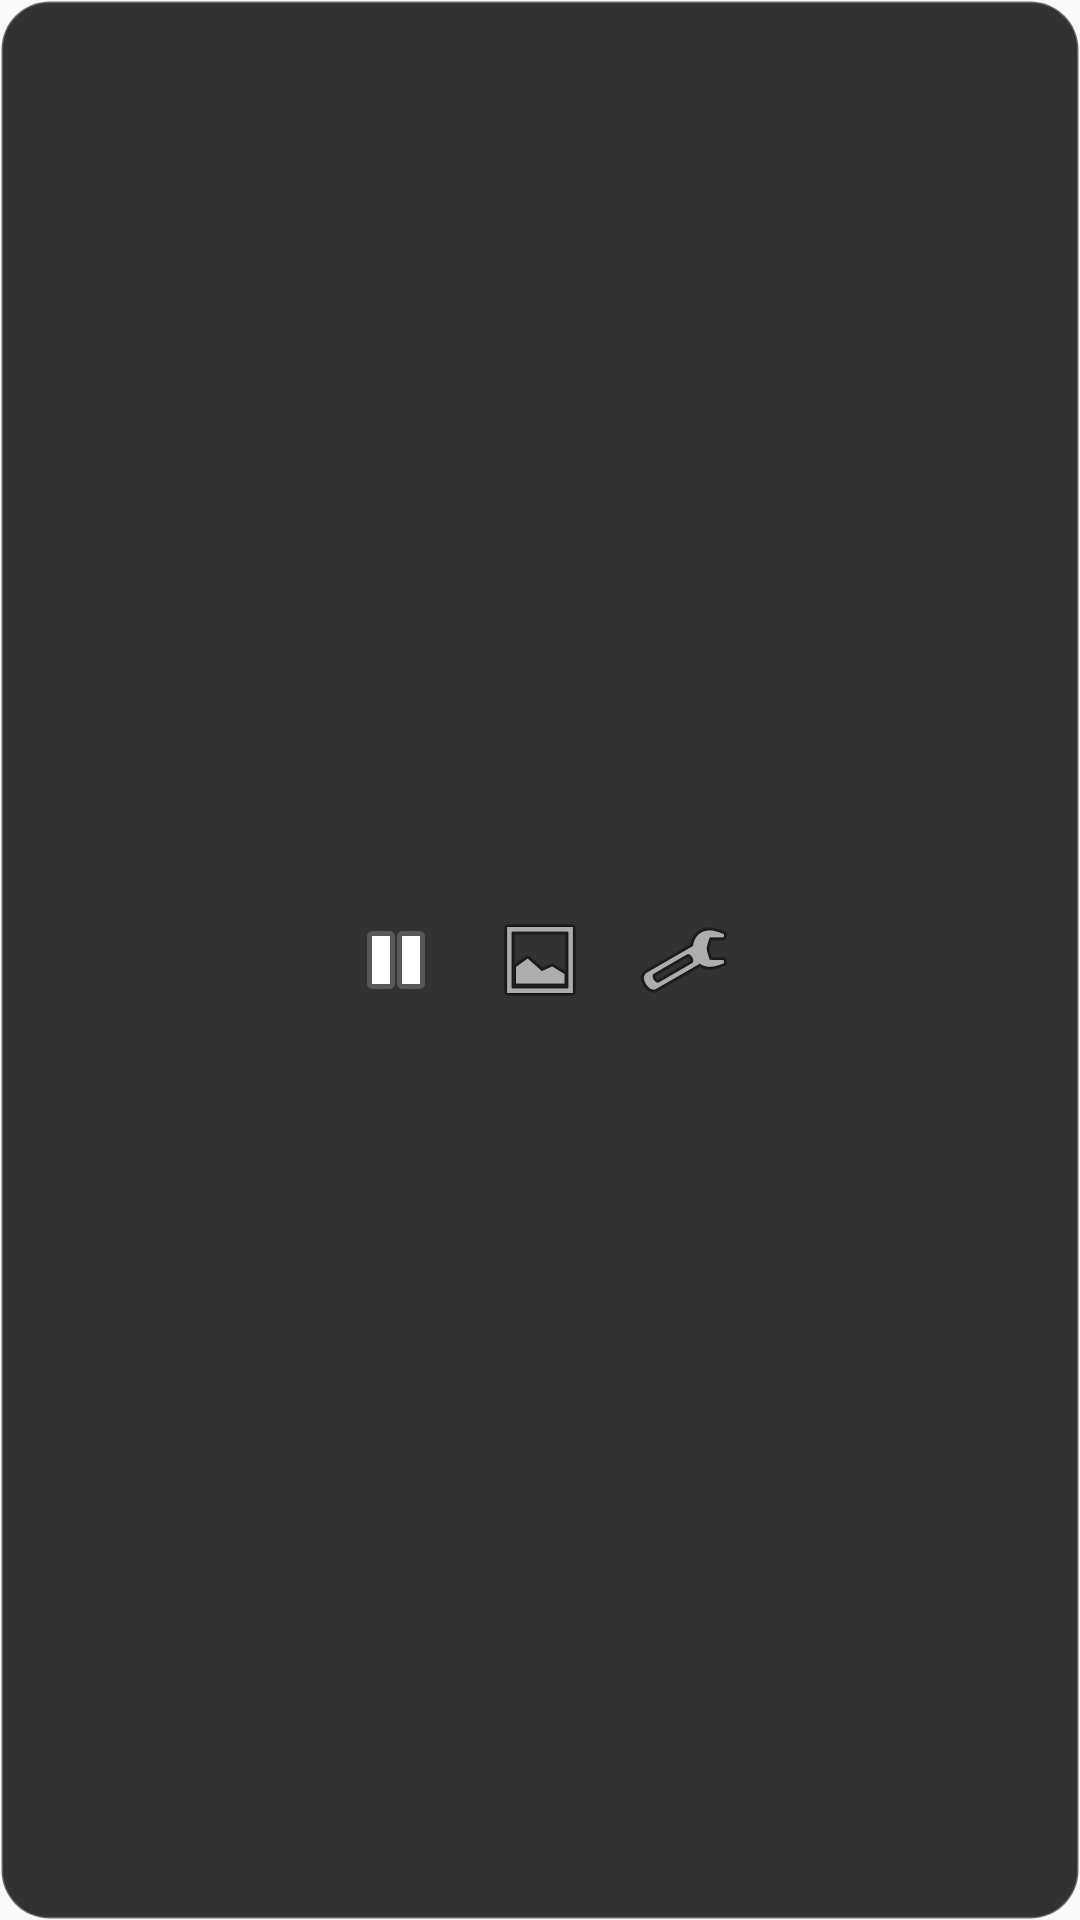

Named icons in this screenshot (1080 x 1920) and their centers, (x=x, y=y):
Ayarlar: (x=684, y=960)
Dondur/Çöz: (x=396, y=960)
